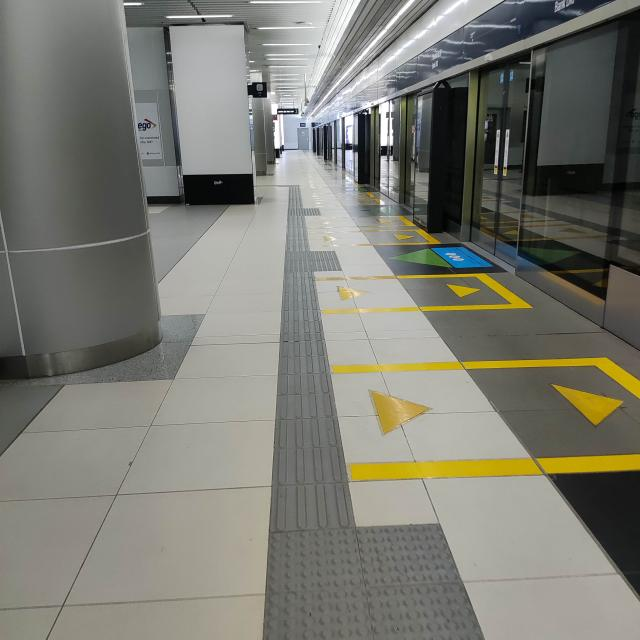lurus: (271, 195, 348, 638)
